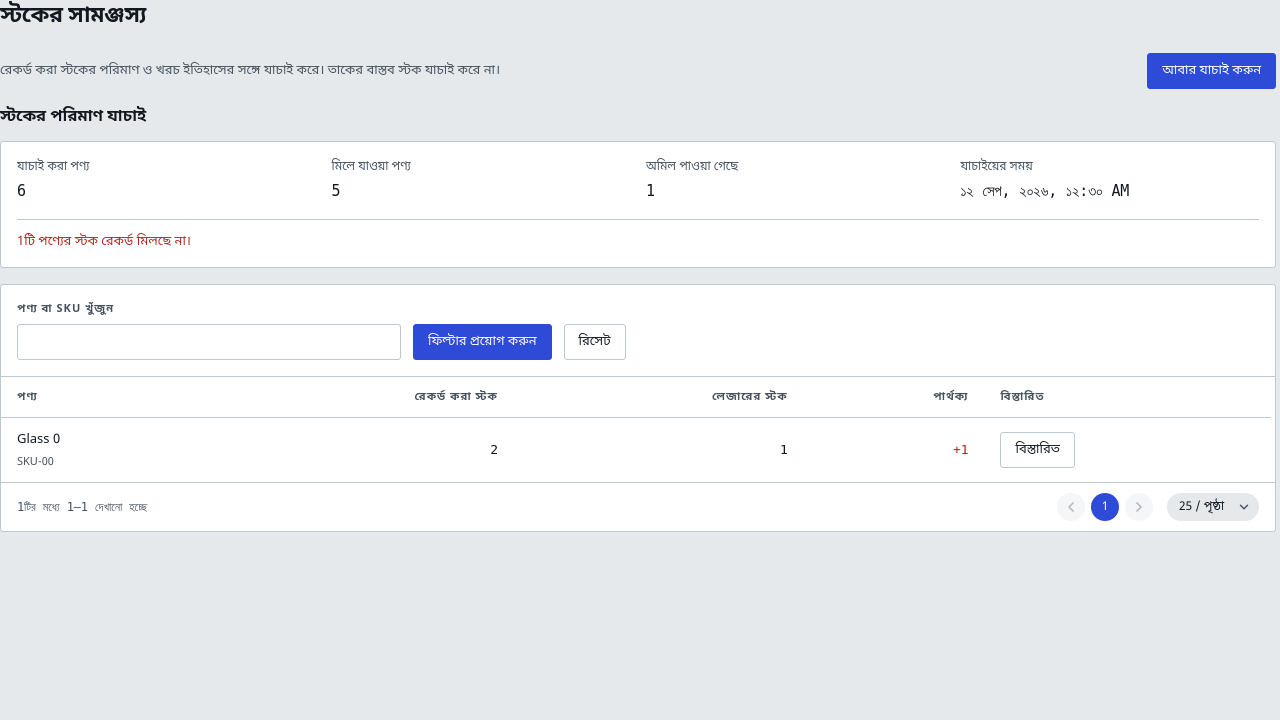
Test: renders Bengali labels, Dhaka dates, and no cost information
Click the button "বিস্তারিত": [1038, 450] box [1000,432,1075,468]
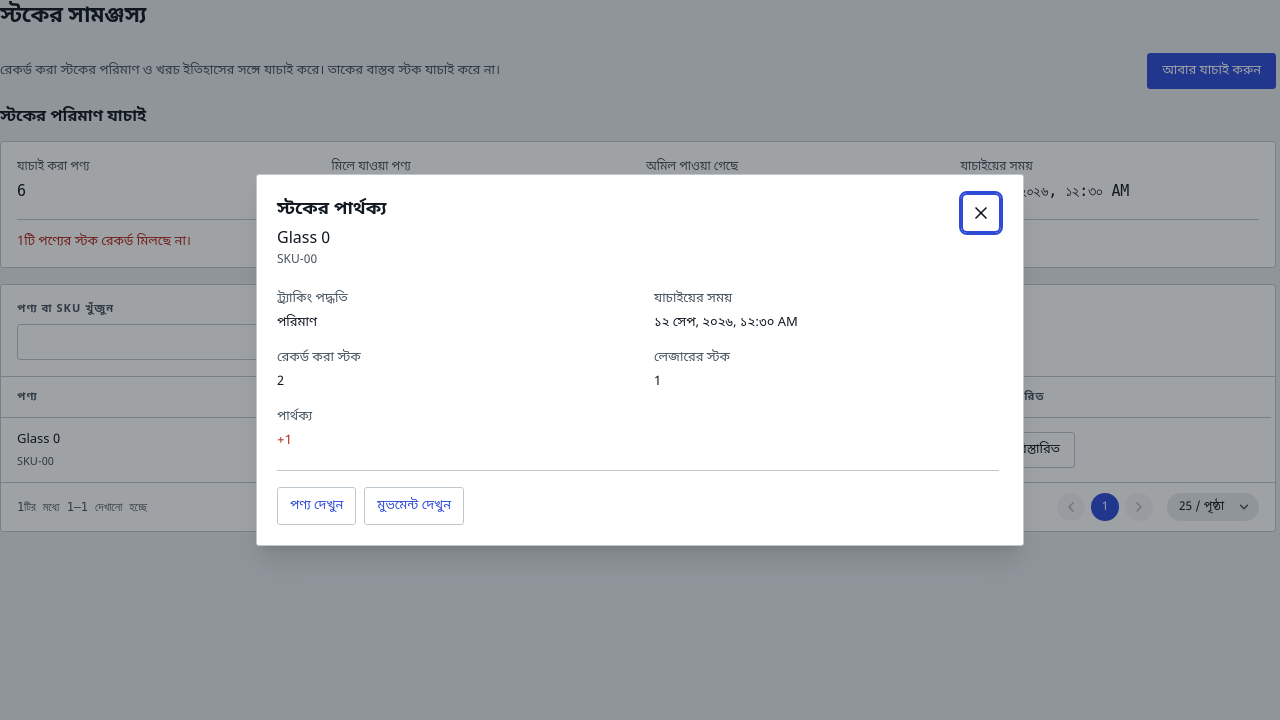
Expected: the dialog shows "রেকর্ড করা স্টক", [277,349,361,366]
